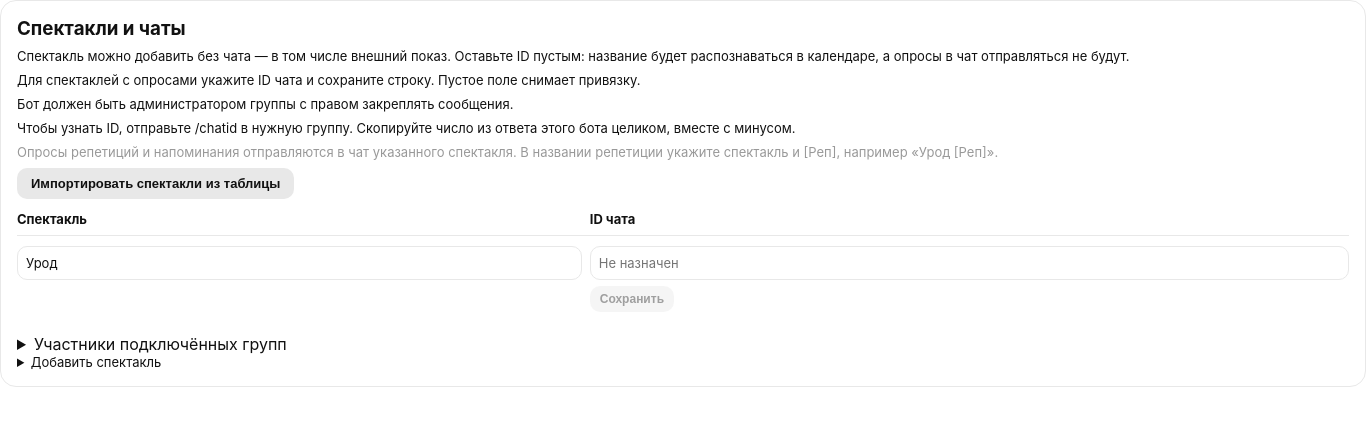
Scenario: stale edit reloads latest data and keeps the server error visible
Step 1. Type "-1001" into the field with placeholder "Не назначен" → (969, 263), box x1=590 y1=246 x2=1349 y2=280
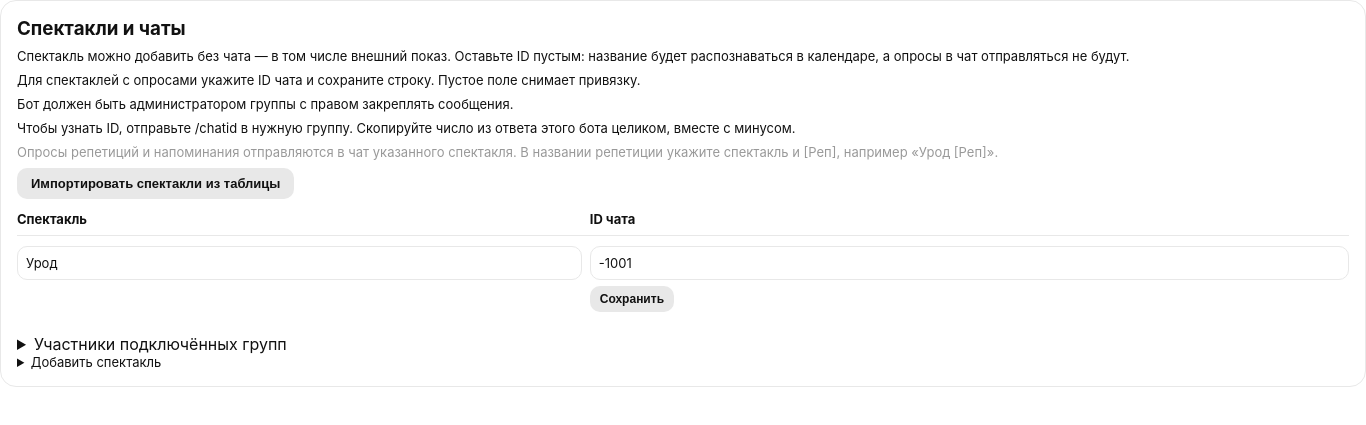
Step 2. Submit the form, box x1=590 y1=246 x2=1349 y2=312
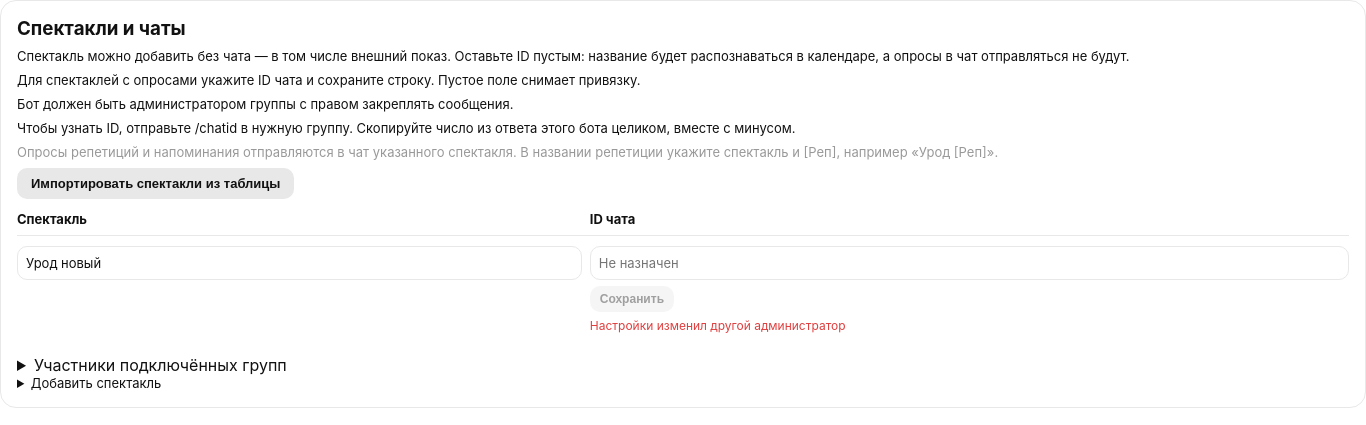
Check: the message "Настройки изменил другой администратор" is shown, box x1=590 y1=318 x2=846 y2=333
Check: the button "Сохранить" is disabled, box x1=590 y1=286 x2=674 y2=312
